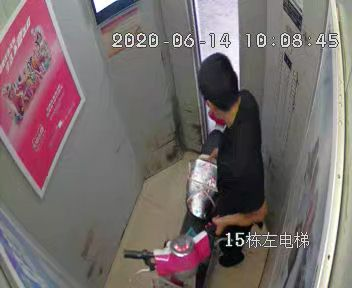Electric-bicycle: (125, 115, 218, 288)
